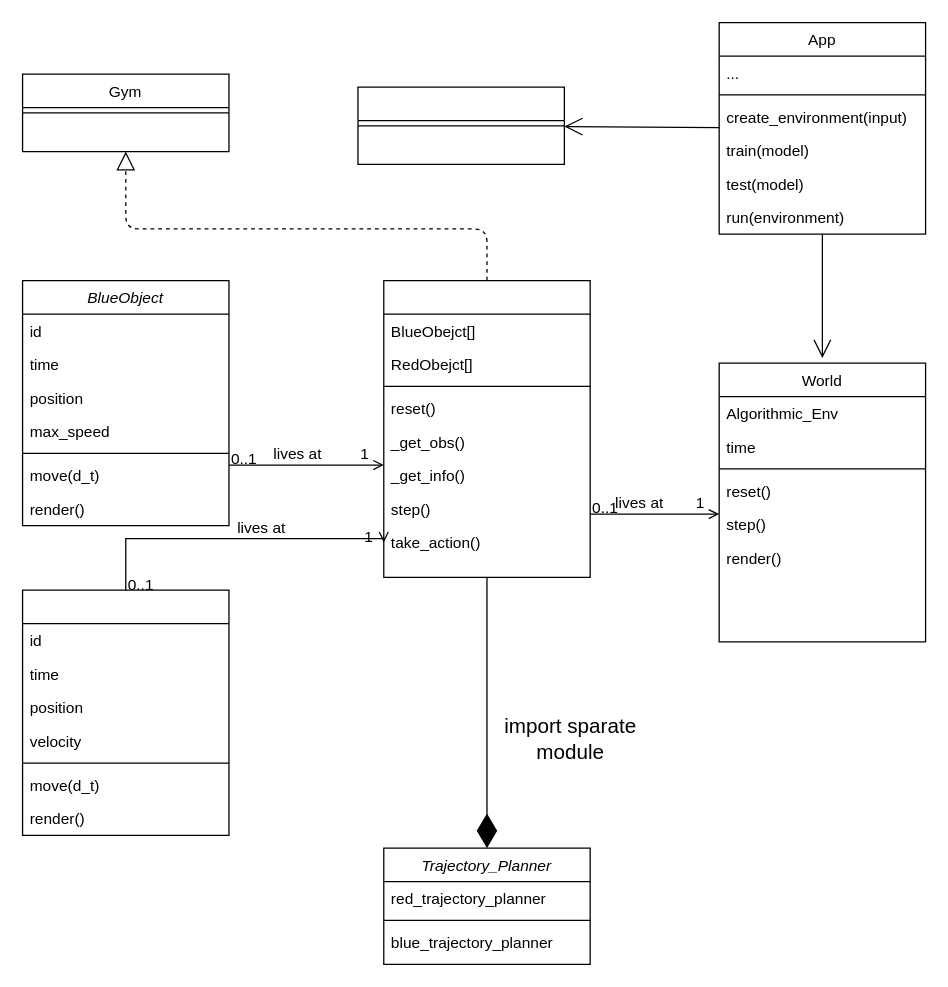
Some shapes in this 948 by 987 pixel diagram are drawn without their labels. The box of each missing label's shape, as (x1, y1, x2, y2) in pixels:
Algorithmic_Environment: (382, 279, 590, 577)
Input_Handler: (357, 86, 564, 164)
RedObject: (21, 589, 229, 835)
